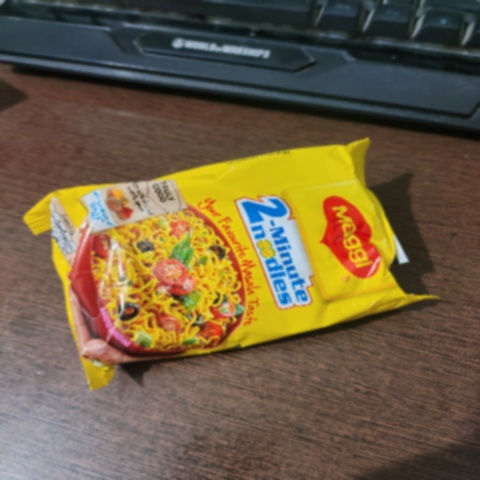maggi: (21, 110, 441, 406)
